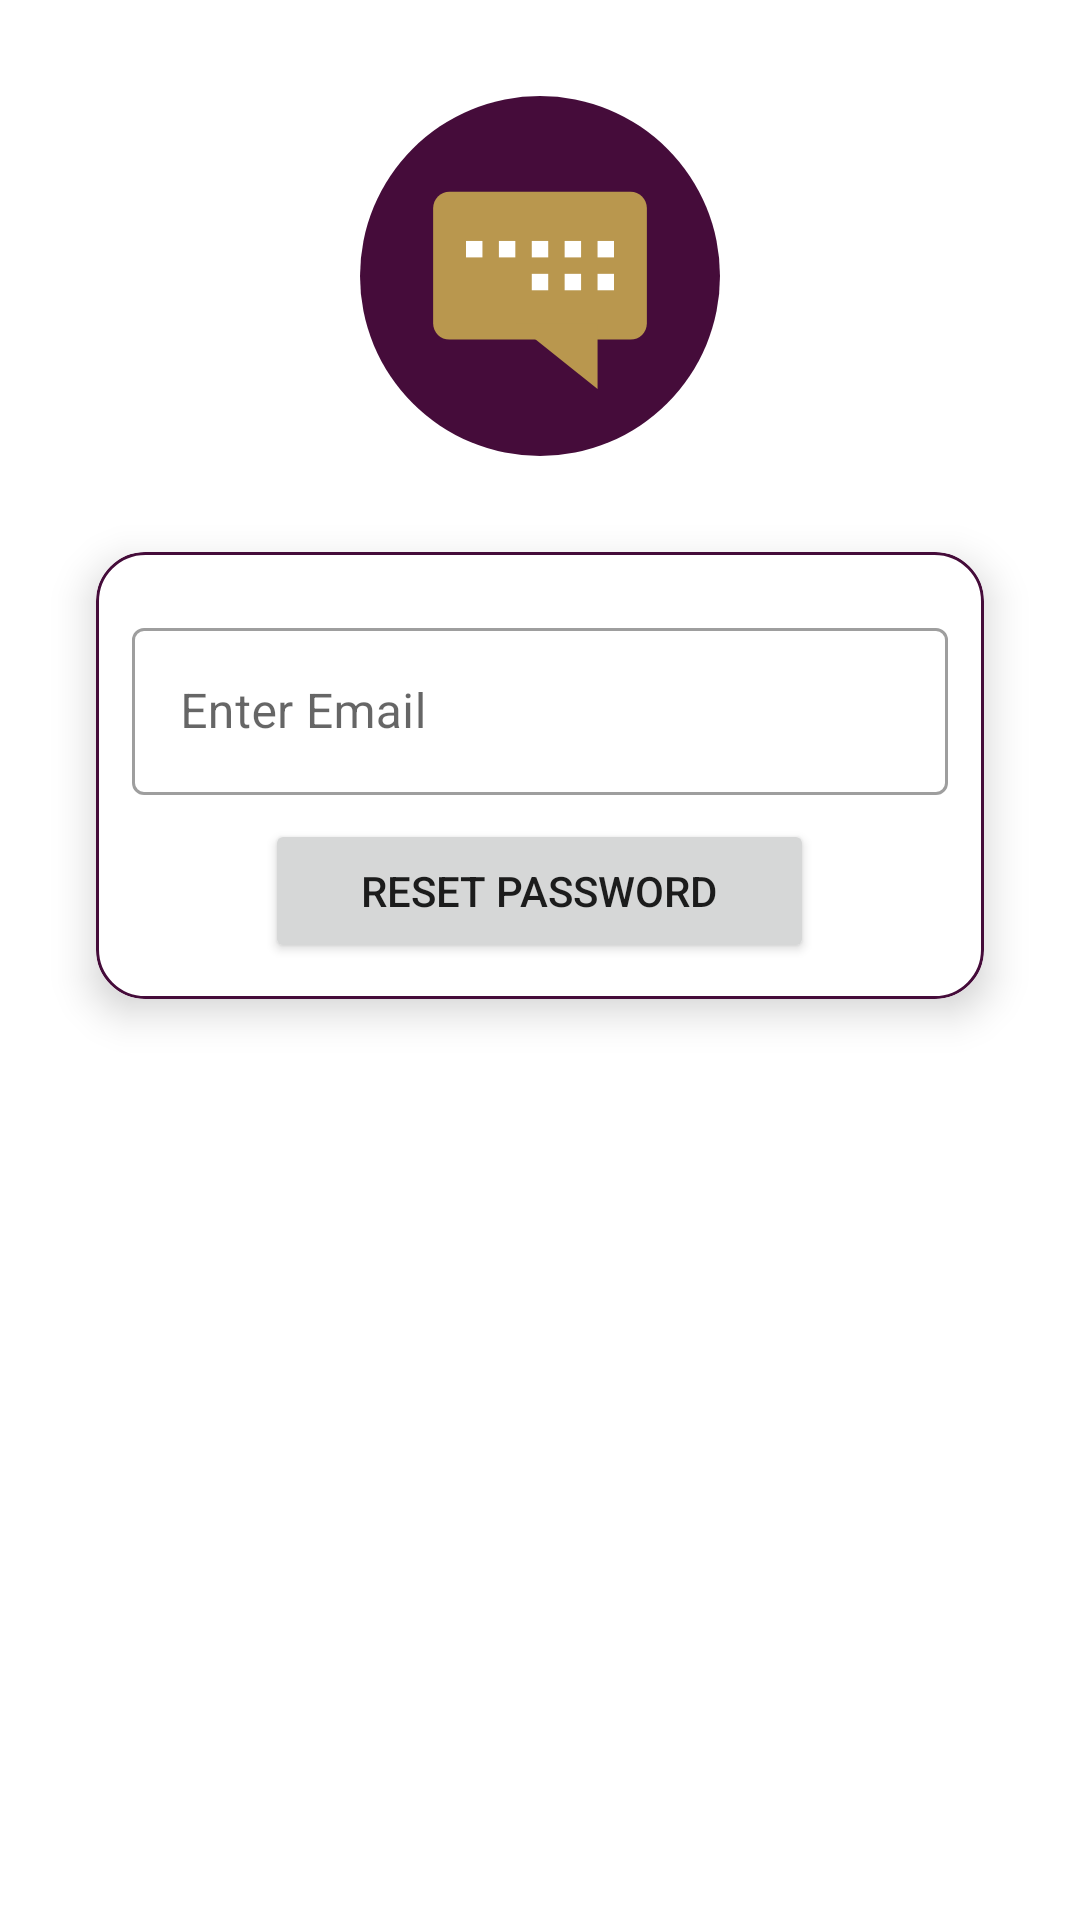

Screen size 1080*1920. Icon name, then its center in pixels as point (x, y):
bubble: point (540, 276)
